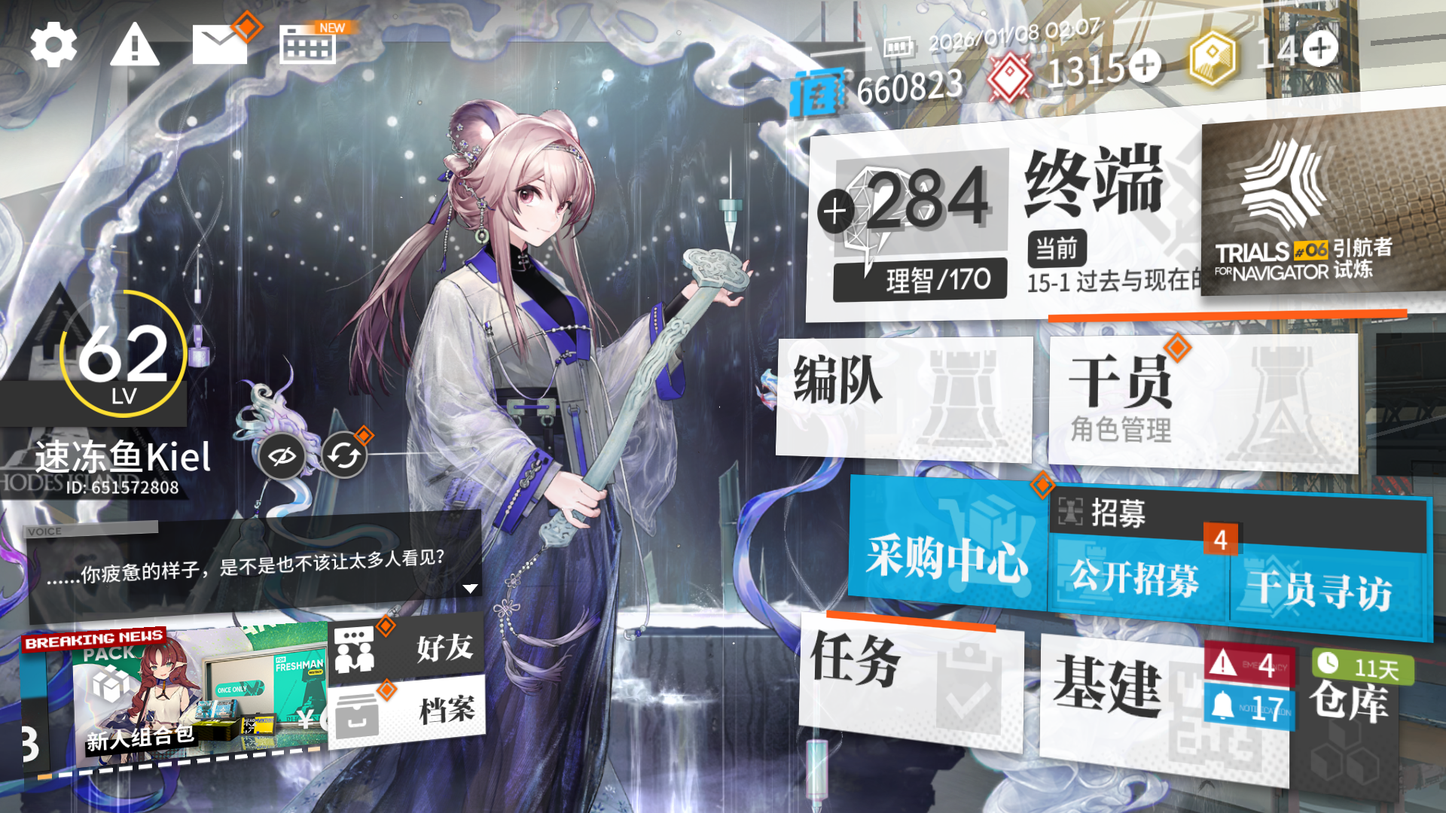home_button: (1010, 129, 1179, 225)
infrastructure_button: (1051, 641, 1209, 740)
